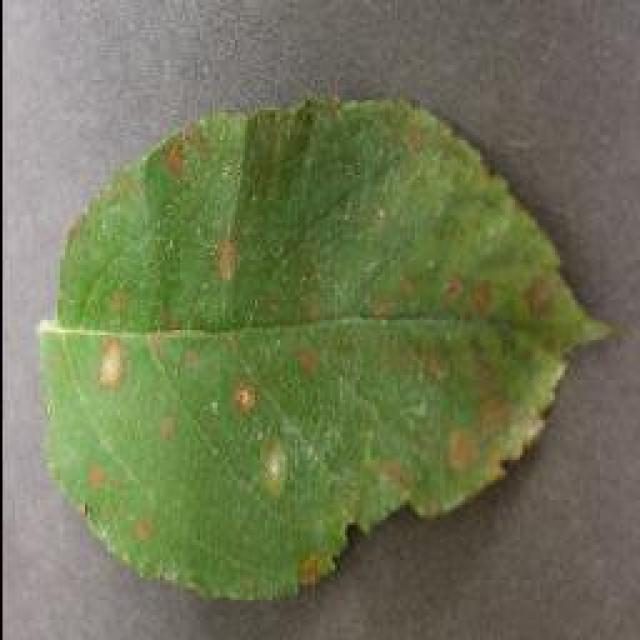apple cedar apple rust: (35, 90, 615, 602)
